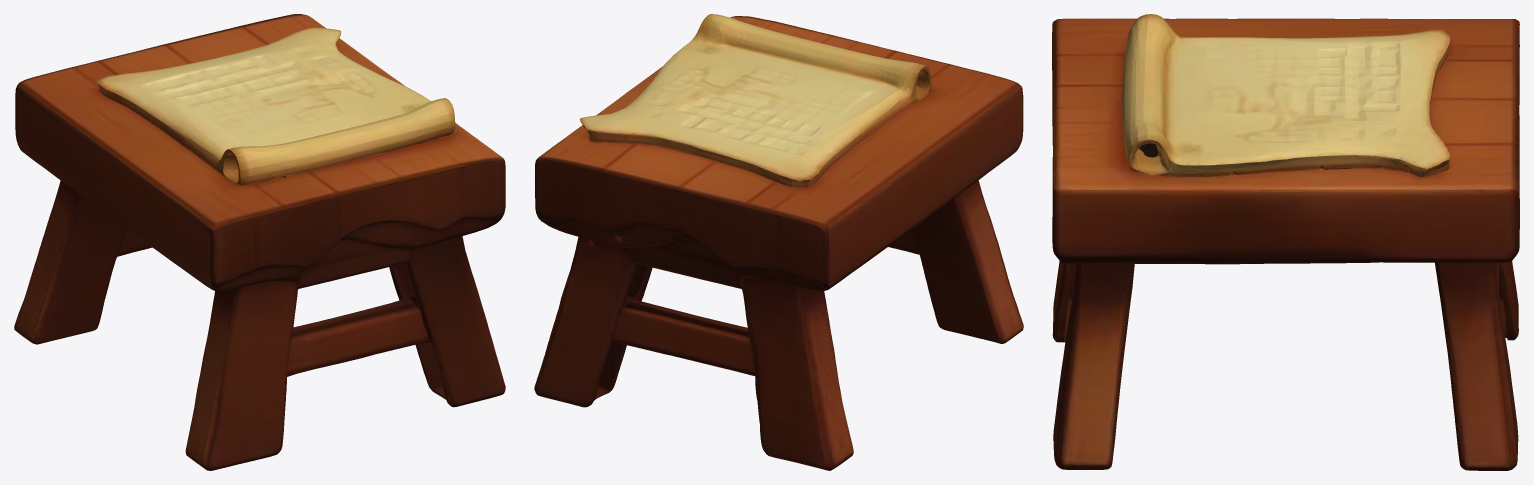
Rendered from drafting_table.glb.
The picture shows the model from 3 angles, left to right: view 1: azimuth 30°, elevation 25°; view 2: azimuth 150°, elevation 25°; view 3: azimuth 270°, elevation 25°; orthographic projection. The views are drawn at different scales.
Parts seen in each view (by area): view 1: world; view 2: world; view 3: world.
Part boxes in pixels (bbox=[...]): world: bbox=[14, 14, 505, 470]; world: bbox=[534, 14, 1023, 470]; world: bbox=[1052, 14, 1519, 470].
Size of the model in its own units: 0.8812 by 0.7731 by 0.9994.
1 material, 1 textured.
